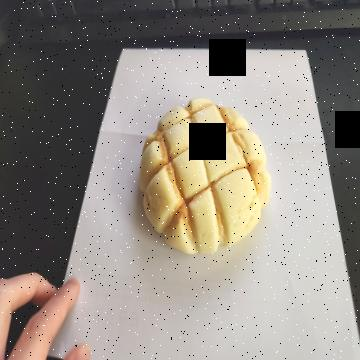melon_bread: (139, 98, 271, 252)
